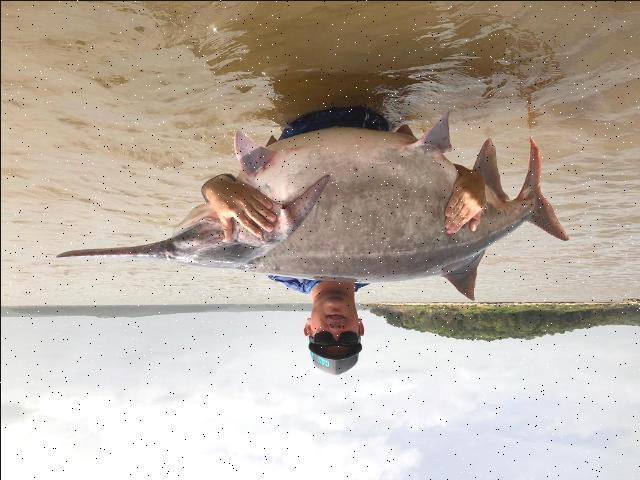Sirip Anal: (462, 138, 514, 210)
Sirip Dada: (224, 112, 340, 253)
Sirip Ekor: (509, 126, 579, 258)
Sirip Perut: (390, 99, 466, 166)
Sirip Punggung: (435, 236, 495, 308)
